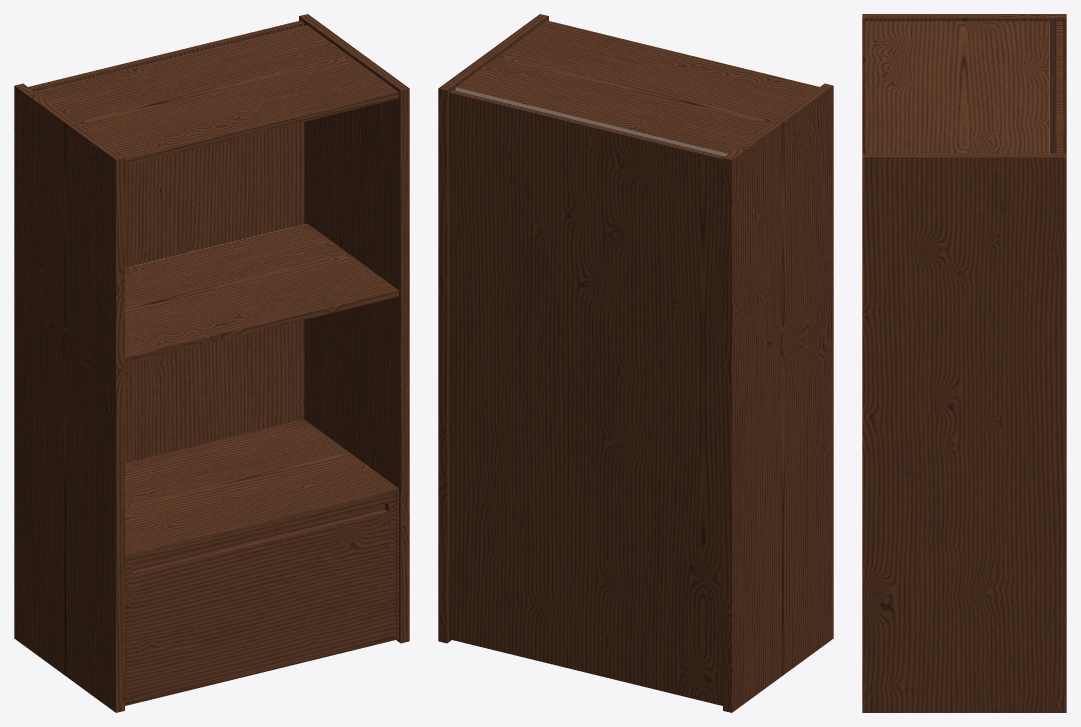
Rendered from shelf 1.fbx.
3 renders of one model, left to right at view 1: azimuth 30°, elevation 25°; view 2: azimuth 150°, elevation 25°; view 3: azimuth 270°, elevation 25°, orthographic.
Parts seen in each view (by area): view 1: shelf 1; view 2: shelf 1; view 3: shelf 1.
Part boxes in pixels (box(x1,y1,x2,y2)): shelf 1: box(14, 14, 409, 712); shelf 1: box(438, 14, 833, 712); shelf 1: box(862, 14, 1066, 712).
Size of the model in its own units: 0.6 by 1 by 1.8.
